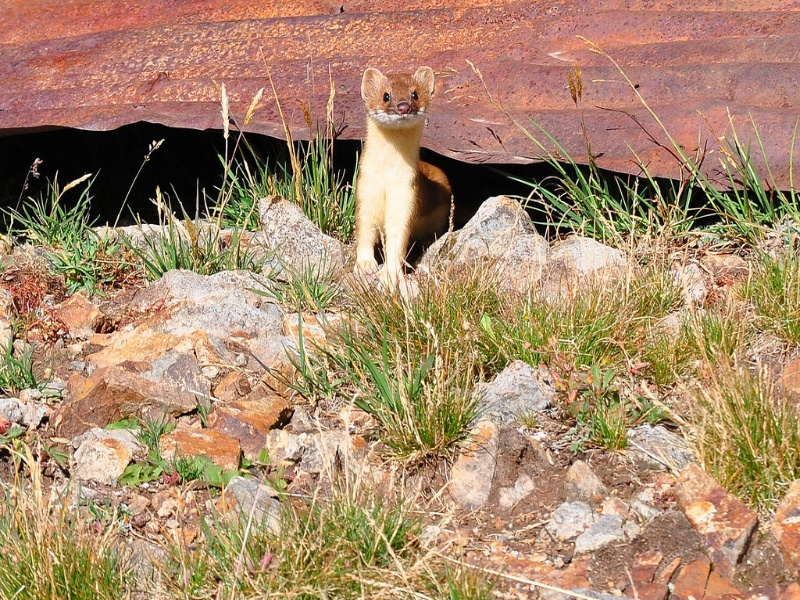minkish: (348, 65, 456, 286)
